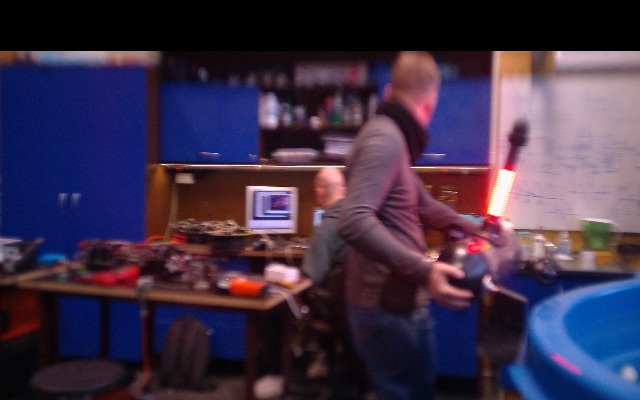red: (487, 168, 517, 222)
